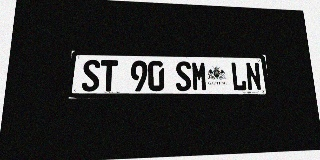0: (148, 61, 164, 91)
9: (131, 60, 147, 91)
L: (230, 62, 247, 91)
M: (191, 61, 208, 91)
N: (245, 62, 262, 91)
S: (81, 60, 100, 92), (175, 61, 192, 91)
T: (100, 60, 118, 91)
